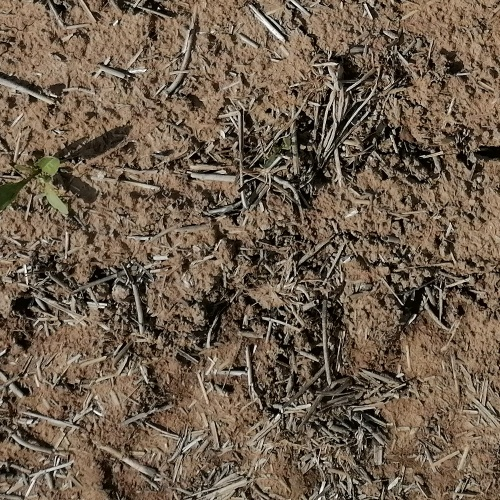beet: (0, 157, 71, 218)
